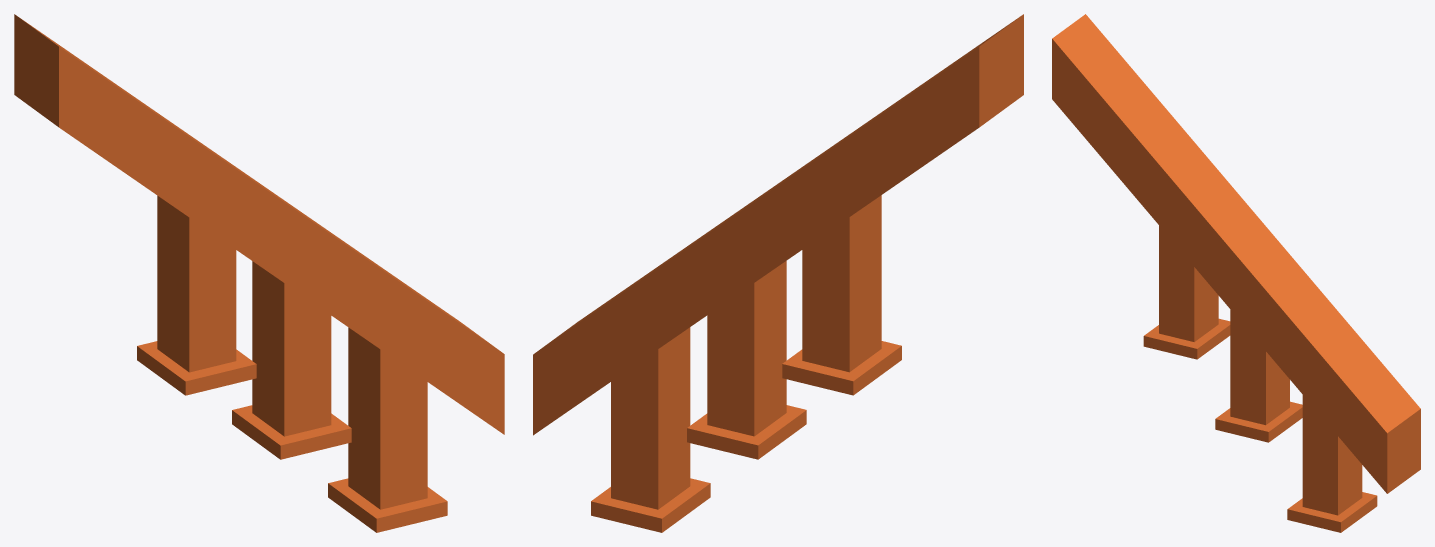
Rendered from stair handle.fbx.
3 renders of one model, left to right at view 1: azimuth 30°, elevation 25°; view 2: azimuth 150°, elevation 25°; view 3: azimuth 330°, elevation 25°, orthographic. The views are drawn at different scales.
Parts seen in each view (by area): view 1: stair handle; view 2: stair handle; view 3: stair handle.
Part boxes in pixels (x1,y1,x2,y2): stair handle: [14, 14, 504, 532]; stair handle: [533, 14, 1023, 532]; stair handle: [1052, 14, 1420, 532].
Size of the model in its own units: 548 by 660 by 103.
